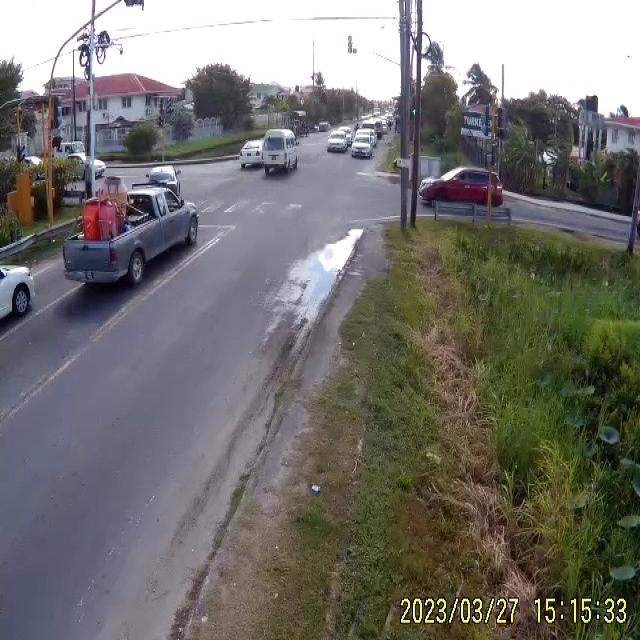car: (62, 180, 200, 287), (420, 168, 504, 207), (0, 264, 34, 328), (262, 130, 300, 173), (239, 140, 263, 170), (146, 166, 179, 187), (352, 132, 376, 159), (326, 130, 350, 155), (315, 121, 329, 131)
